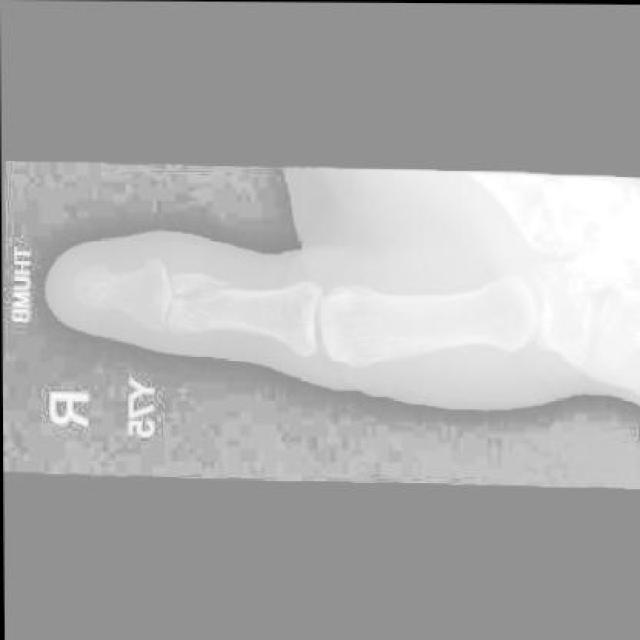Fracture: (157, 257, 230, 318)
